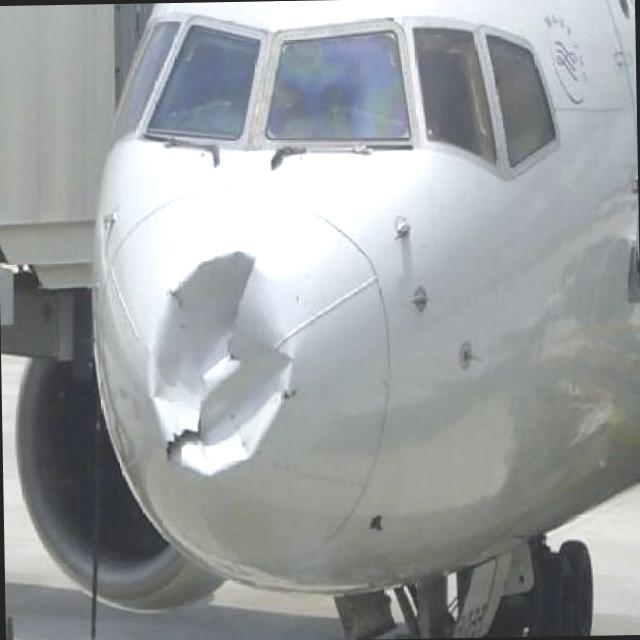dent: (143, 235, 304, 497)
